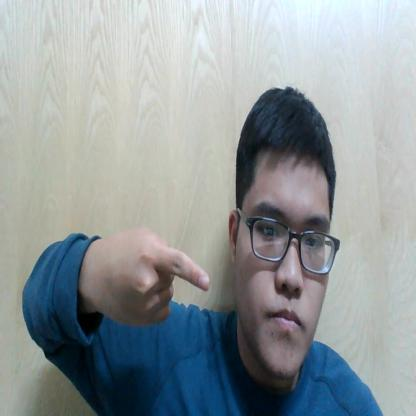left: (103, 212, 211, 341)
